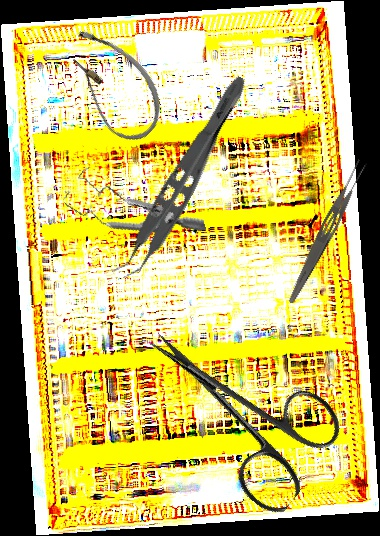Cannula: (46, 17, 179, 152)
Dressing Forceps: (285, 157, 370, 308)
Iris Scissors: (113, 292, 355, 521)
Speculum: (56, 141, 207, 265)
Tissue Forceps: (108, 64, 252, 289)
